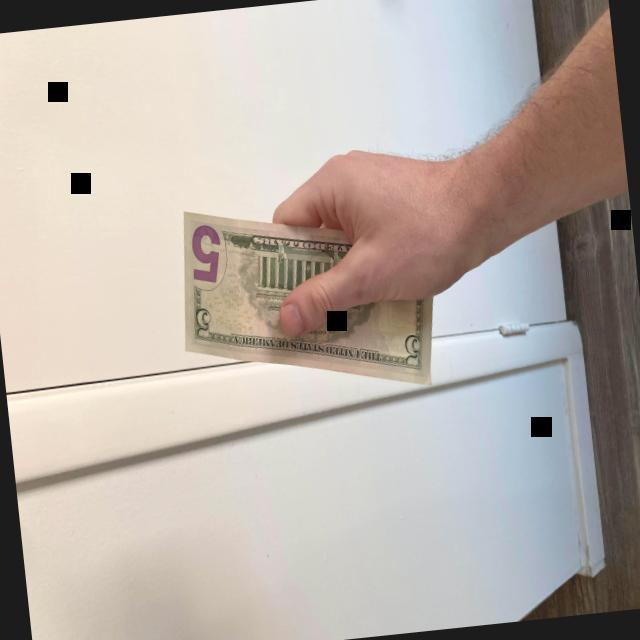five: (184, 210, 434, 386)
